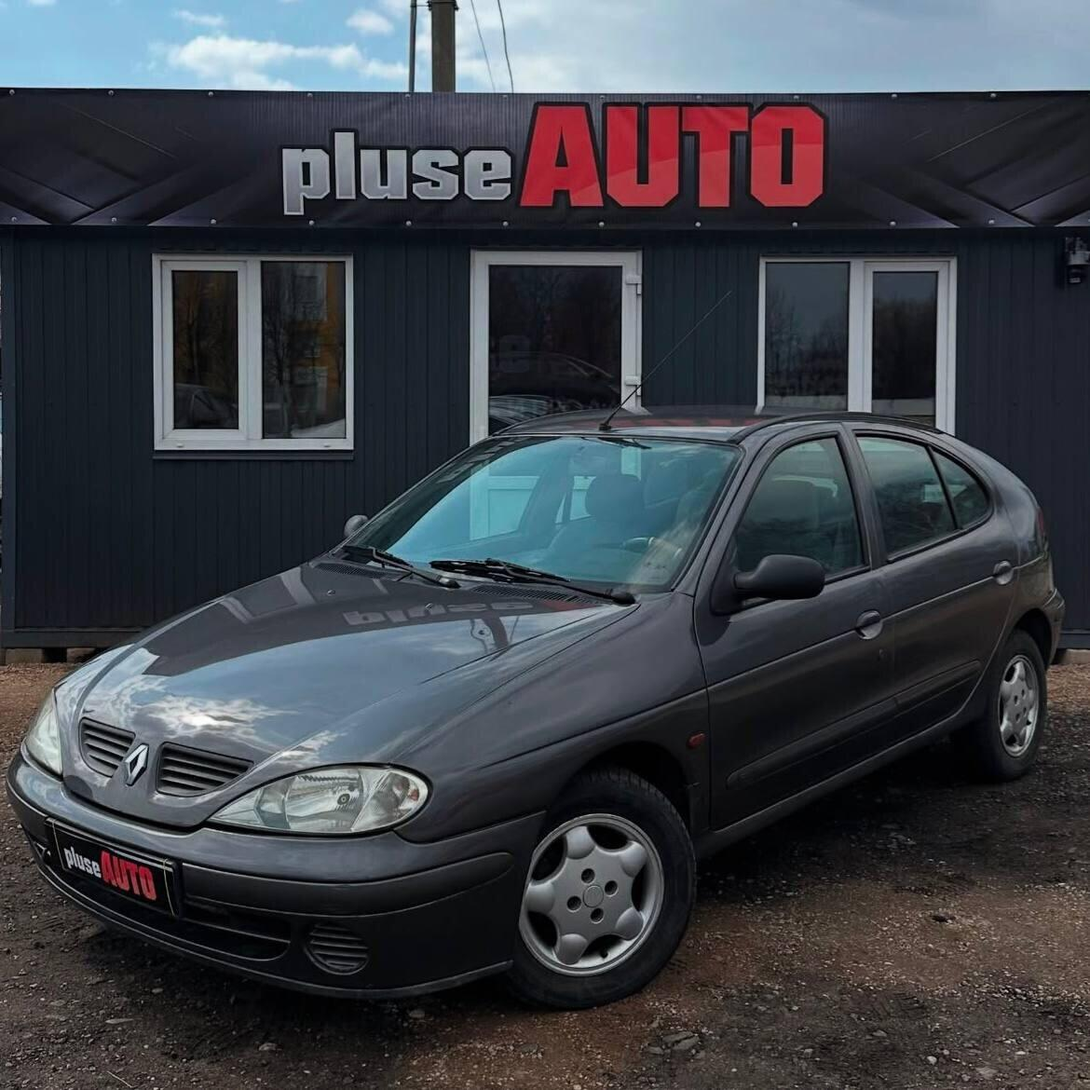Megane_1999-2003: (5, 410, 1074, 1009)
